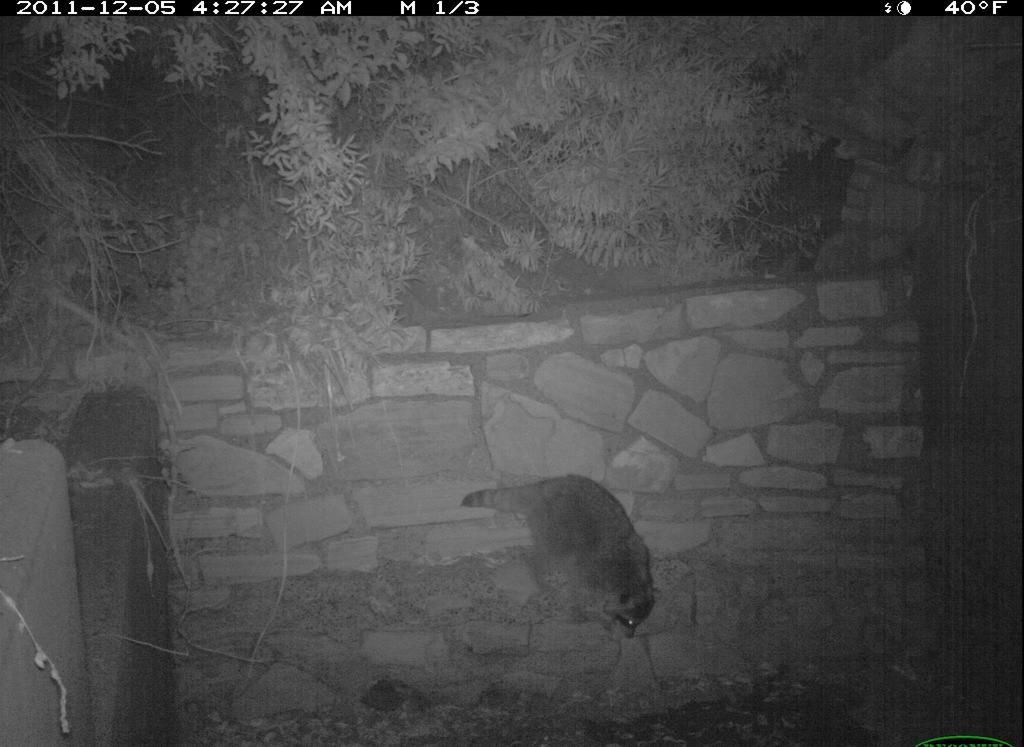raccoon: (463, 475, 669, 644)
